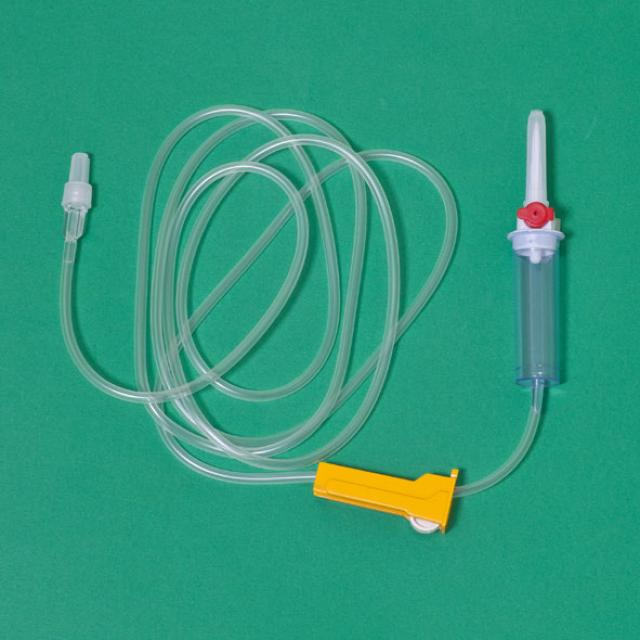B3: (53, 60, 584, 543)
